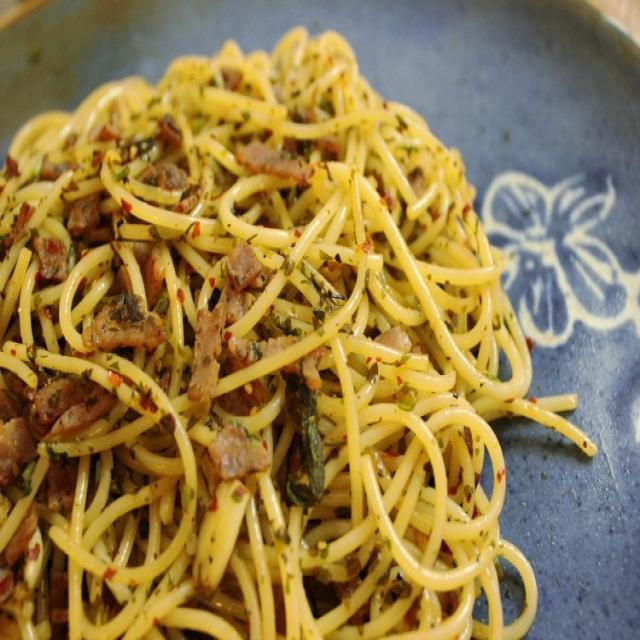Oil pasta: (7, 62, 523, 619)
